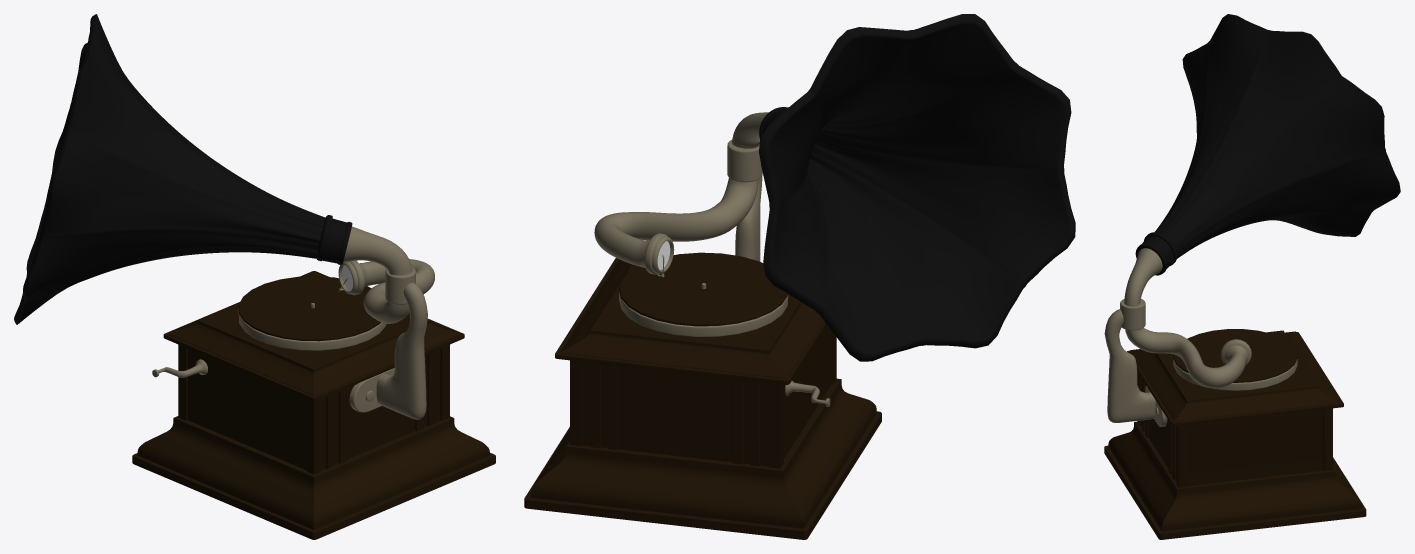
Rendered from gram.fbx.
The picture shows the model from 3 angles, left to right: view 1: azimuth 30°, elevation 25°; view 2: azimuth 150°, elevation 25°; view 3: azimuth 270°, elevation 25°; orthographic projection. The views are drawn at different scales.
Visible parts, largest first — view 1: pCube11, pCylinder18, pasted__pCylinder9, pasted__pCylinder7; view 2: pCylinder18, pCube11, pasted__pCylinder9, pasted__pCylinder7; view 3: pCylinder18, pCube11, pasted__pCylinder9, pasted__pCylinder7.
Part boxes in pixels (x1,y1,x2,y2): pCube11: (132,271,495,539); pCylinder18: (14,14,352,324); pasted__pCylinder9: (152,226,434,419); pasted__pCylinder7: (238,276,380,341); pCylinder18: (759,14,1075,361); pCube11: (524,258,881,539); pasted__pCylinder9: (594,112,830,406); pasted__pCylinder7: (619,252,787,326); pCylinder18: (1135,14,1400,275); pCube11: (1104,330,1366,539); pasted__pCylinder9: (1104,248,1297,426); pasted__pCylinder7: (1173,329,1297,382).
Size of the model in its own units: 13.89 by 13.68 by 9.64.
